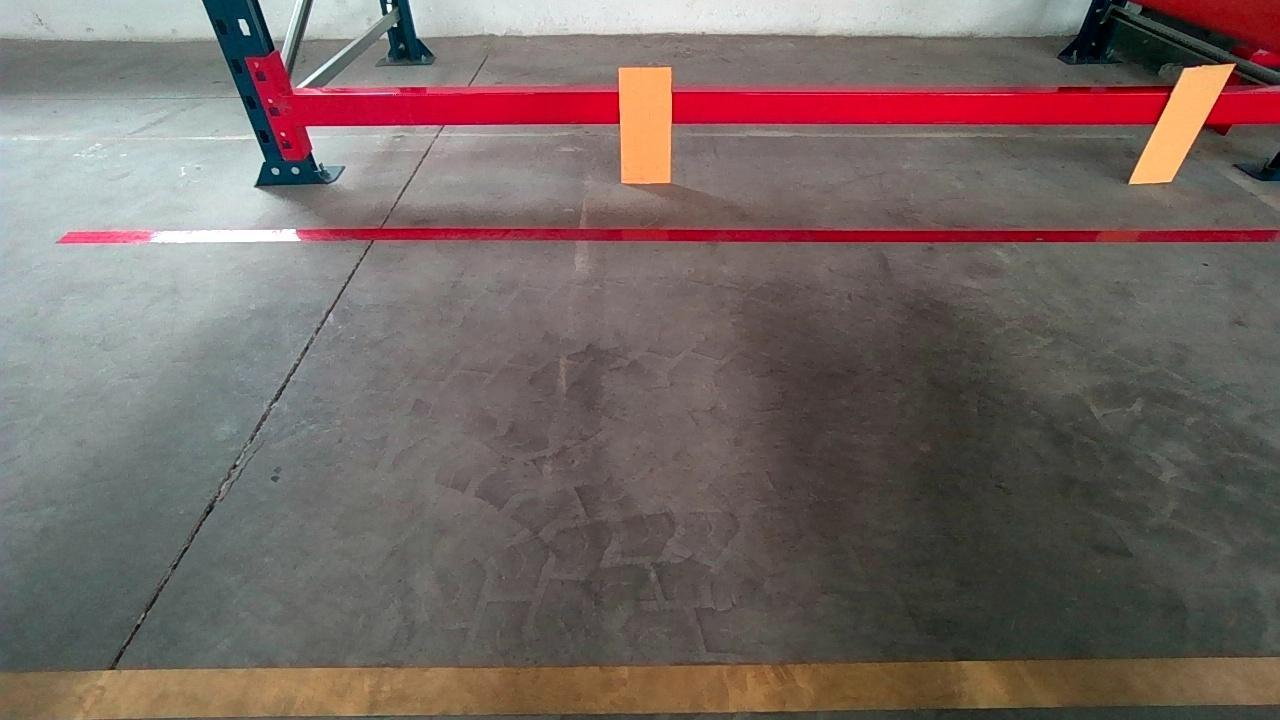h_rack: (297, 82, 1278, 123)
orange_strip: (1131, 65, 1233, 182), (620, 67, 673, 182)
red_line: (77, 223, 1274, 248)
yellow_line: (0, 650, 1274, 720)
